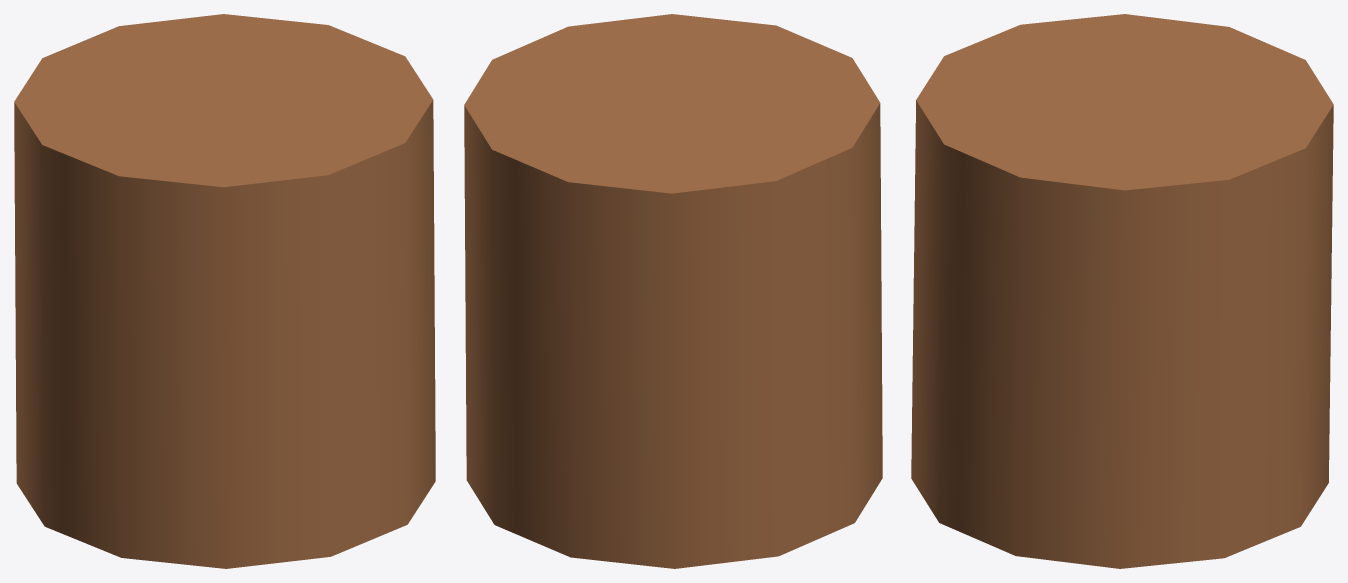
File: Pillar.fbx
The picture shows the model from 3 angles, left to right: view 1: azimuth 30°, elevation 25°; view 2: azimuth 150°, elevation 25°; view 3: azimuth 270°, elevation 25°; orthographic projection.
Parts seen in each view (by area): view 1: FTIC_Pillar; view 2: FTIC_Pillar; view 3: FTIC_Pillar.
Part boxes in pixels (x1,y1,x2,y2): FTIC_Pillar: [14, 14, 435, 568]; FTIC_Pillar: [464, 14, 882, 568]; FTIC_Pillar: [911, 14, 1333, 568].
Size of the model in its own units: 169 by 171 by 171.
